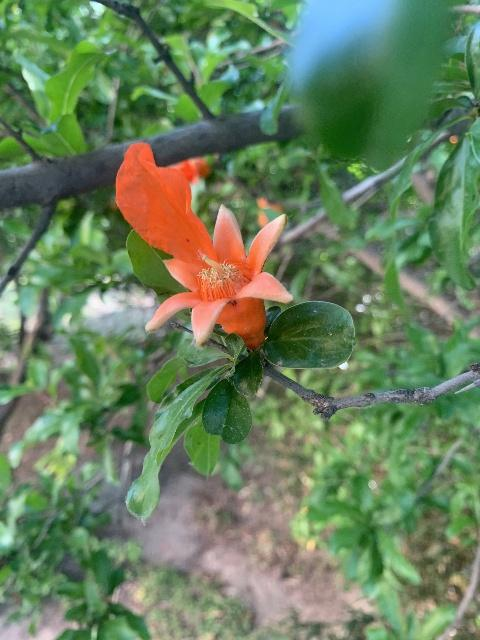flower: (115, 143, 293, 350)
